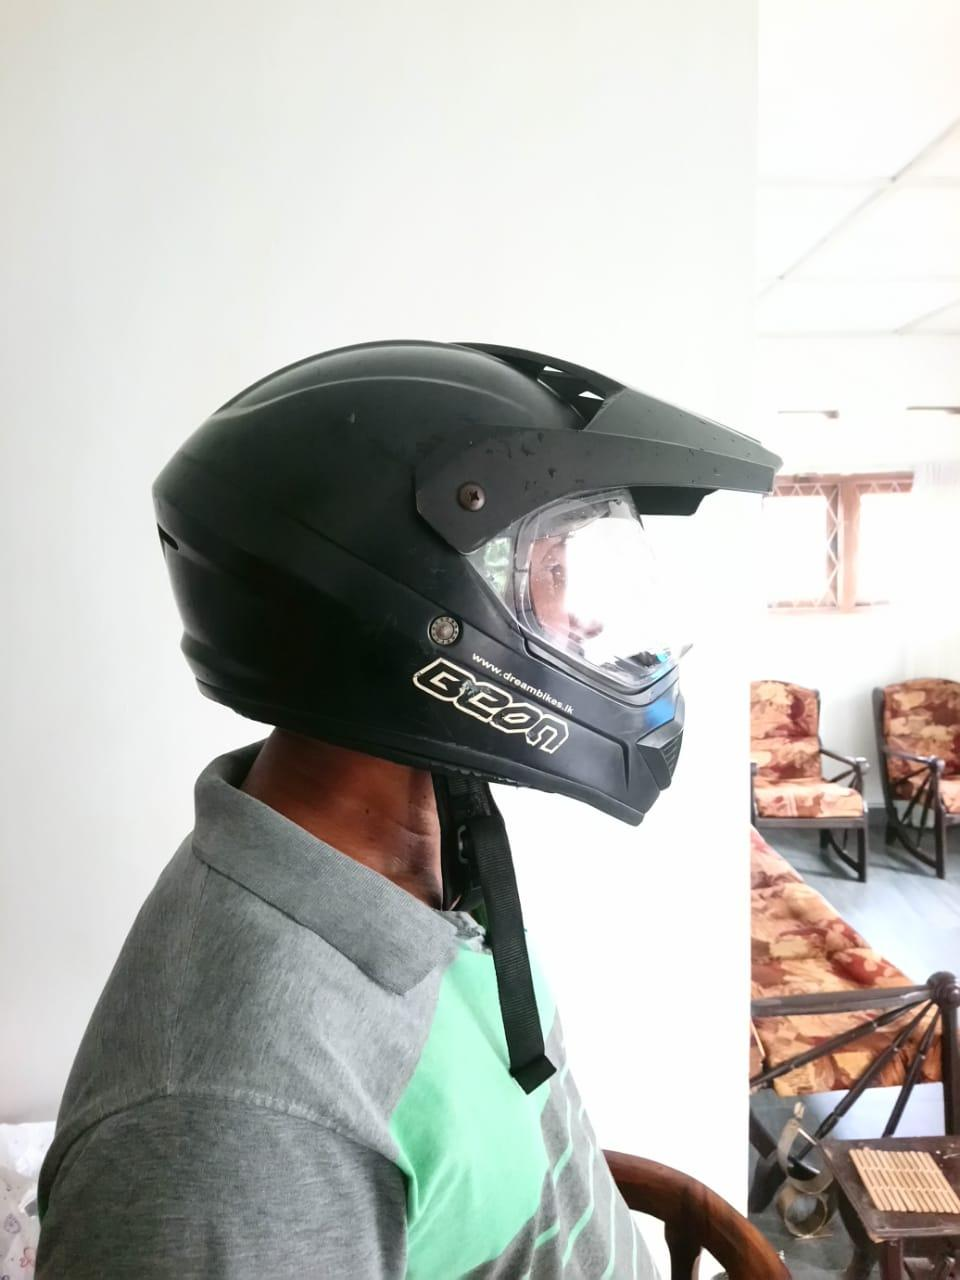helmet: (152, 336, 784, 827)
